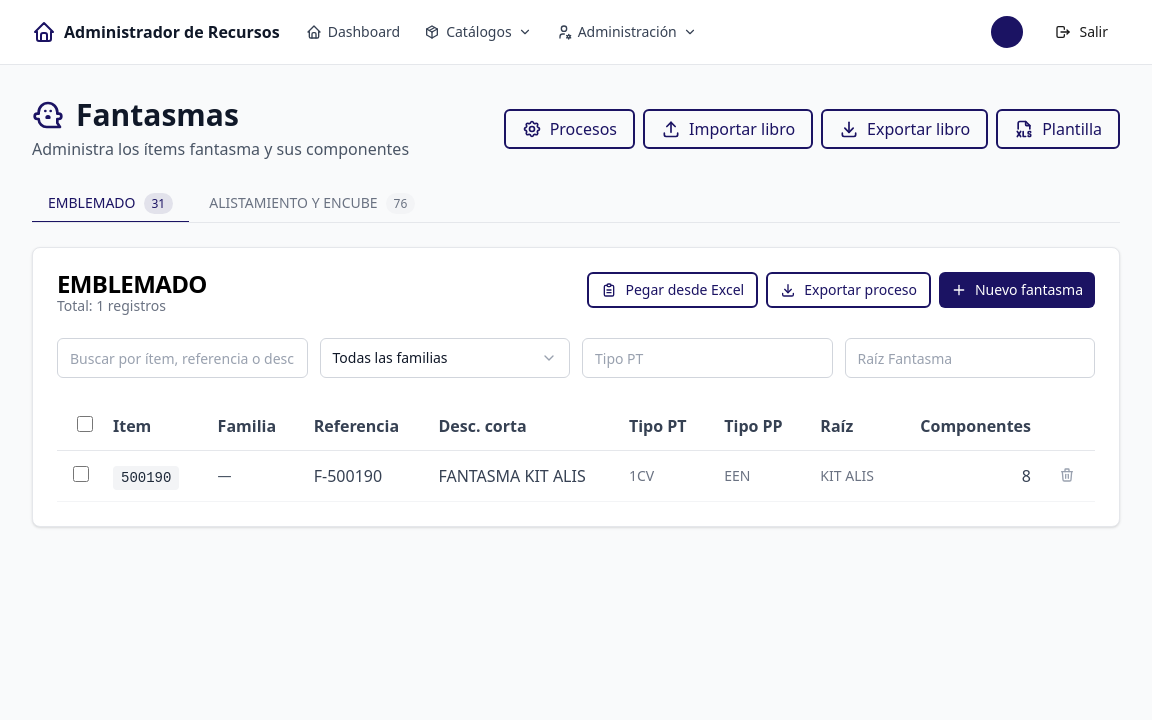
PhantomItemListPage › deleting › deletes one from its row, after naming it
Click the tab "ALISTAMIENTO Y ENCUBE76": [312, 204] box [193,185,431,223]
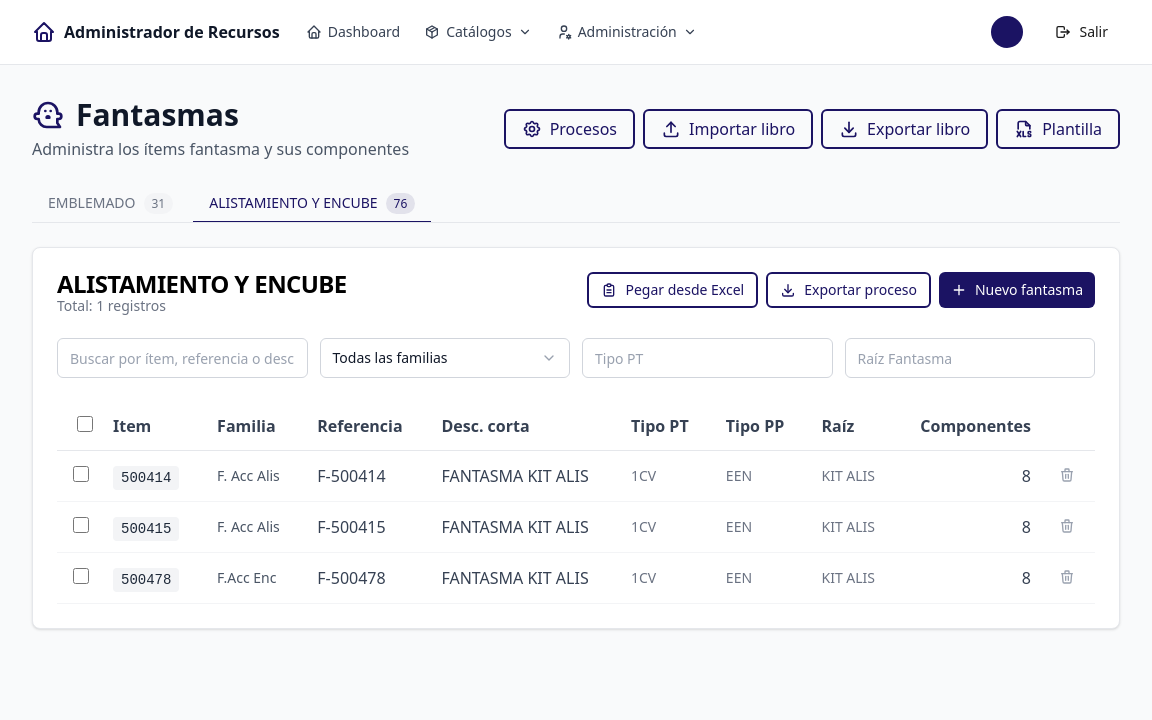
expect the text "500414" is shown: met, box [113,466,179,490]
Click the button named "Eliminar 500415": [1067, 526] box [1055,514,1079,538]
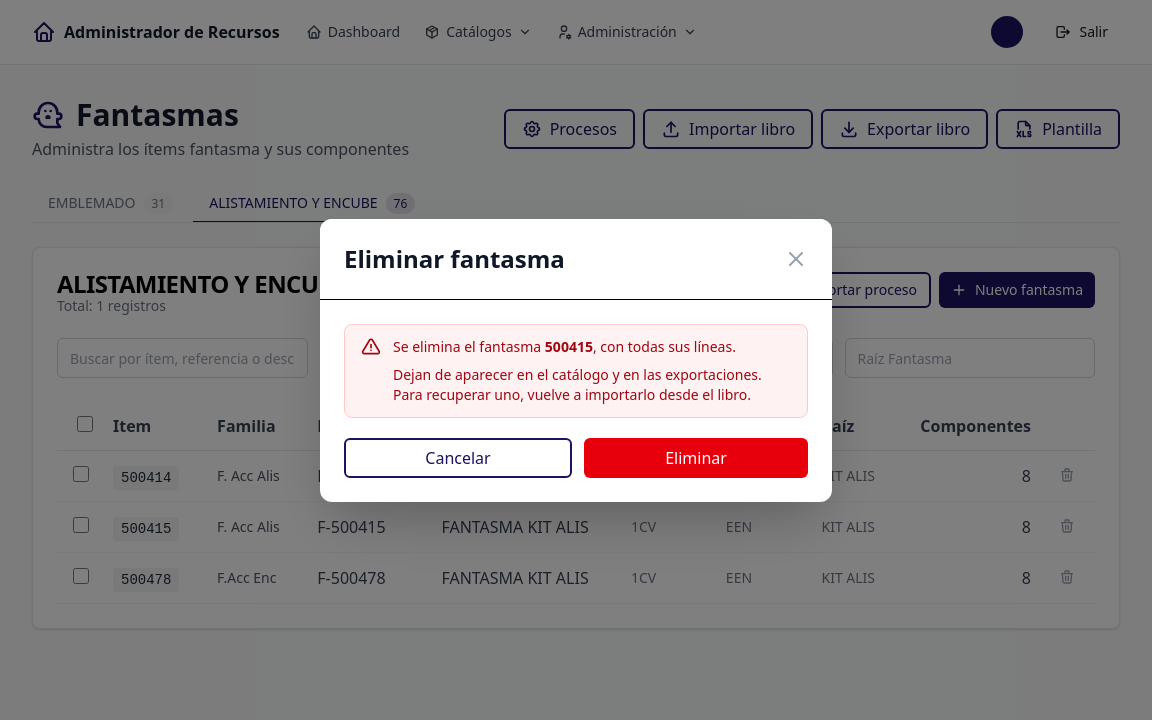
expect the dialog "Eliminar fantasma" shows "500415": met, box [545,336,593,356]
Click the button "Eliminar": [696, 458] box [584,438,808,478]
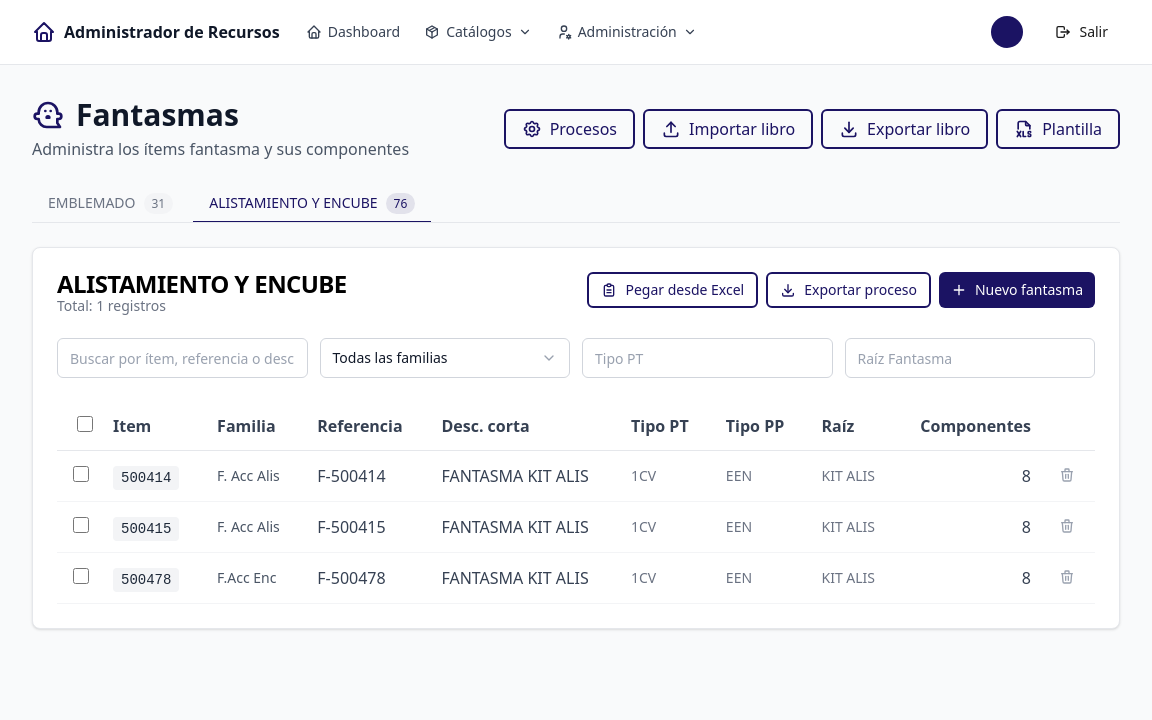
expect the dialog is gone: met
